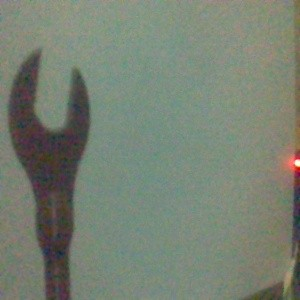spanner: (7, 47, 91, 300)
